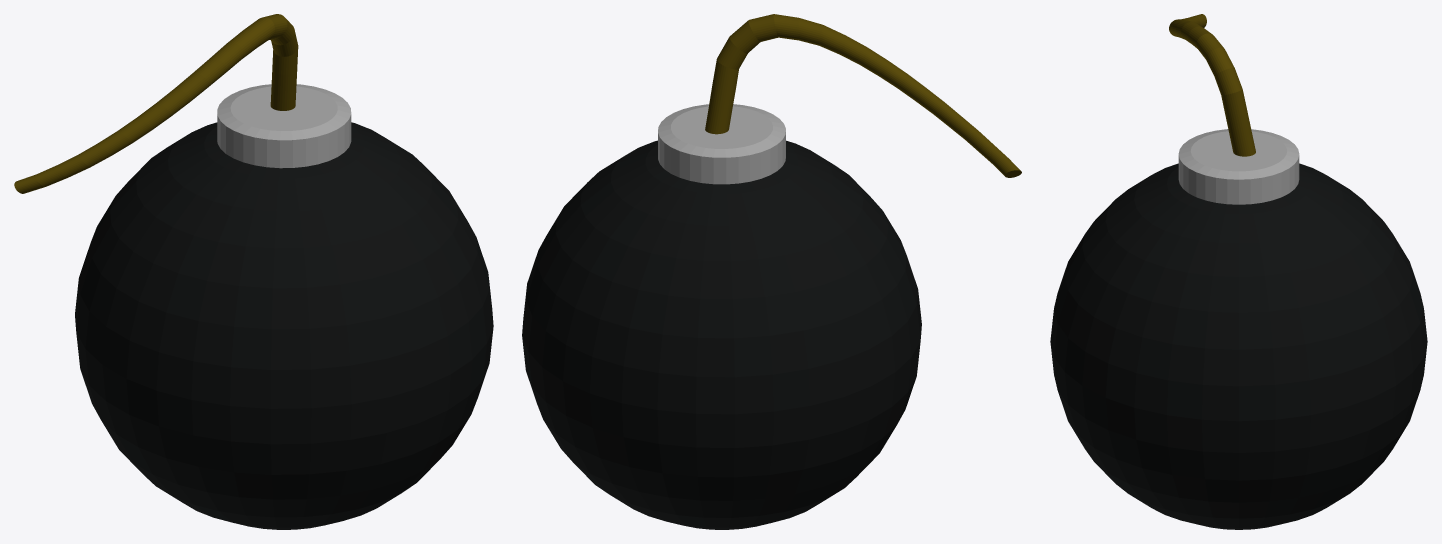
File: bomb.glb
The picture shows the model from 3 angles, left to right: view 1: azimuth 30°, elevation 25°; view 2: azimuth 150°, elevation 25°; view 3: azimuth 270°, elevation 25°; orthographic projection. The views are drawn at different scales.
Visible parts, largest first — view 1: Sphere, BombTop, Rope; view 2: Sphere, Rope, BombTop; view 3: Sphere, BombTop, Rope.
Part boxes in pixels (x1,y1,x2,y2): Sphere: (75,122,493,529); BombTop: (217,84,351,168); Rope: (14,14,298,193); Sphere: (522,140,921,529); Rope: (705,14,1021,177); BombTop: (658,104,785,184); Sphere: (1050,163,1427,529); BombTop: (1178,129,1299,204); Rope: (1169,14,1255,156).
Size of the model in its own units: 1.63 by 1.69 by 1.25.
